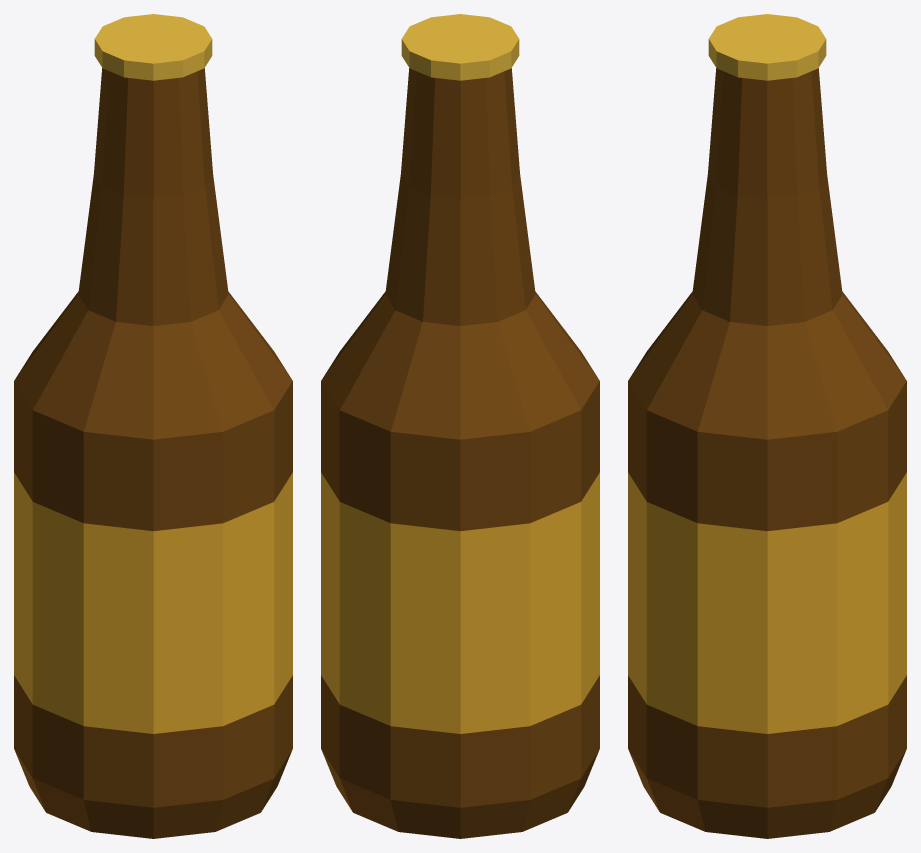
The model's file is bottle.fbx.
3 renders of one model, left to right at view 1: azimuth 30°, elevation 25°; view 2: azimuth 150°, elevation 25°; view 3: azimuth 270°, elevation 25°, orthographic.
Parts seen in each view (by area): view 1: Cylinder; view 2: Cylinder; view 3: Cylinder.
Part boxes in pixels (left/top/right/bottom): Cylinder: left=14, top=14, right=292, bottom=838; Cylinder: left=321, top=14, right=599, bottom=838; Cylinder: left=628, top=14, right=906, bottom=838.
Size of the model in its own units: 16 by 47.37 by 16.
